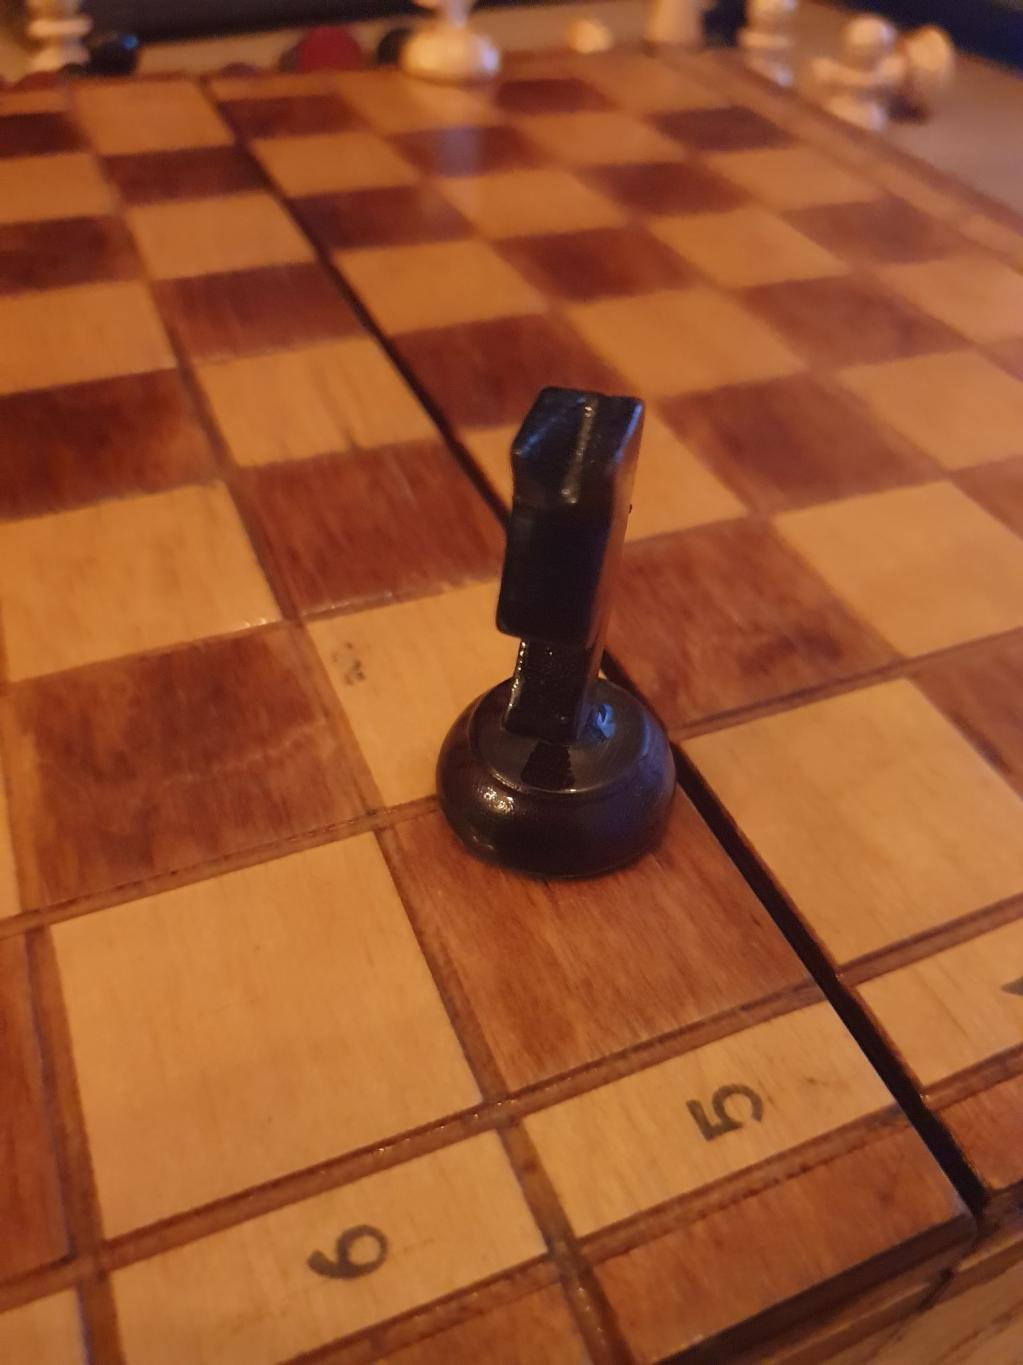bknight: (436, 386, 676, 880)
